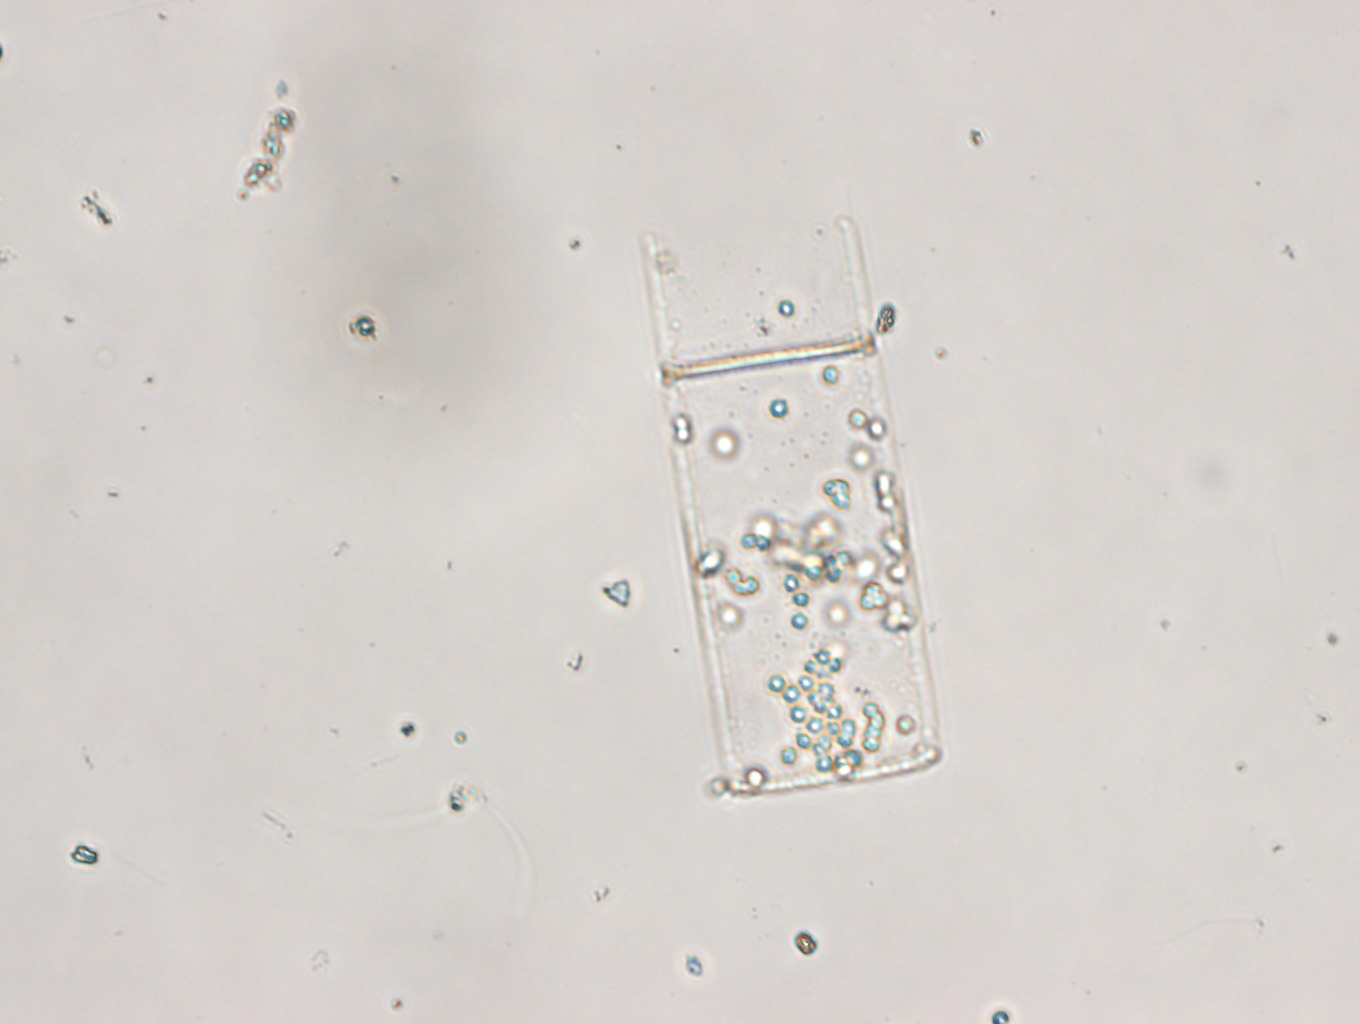guinardia flaccida: (638, 216, 942, 797)
